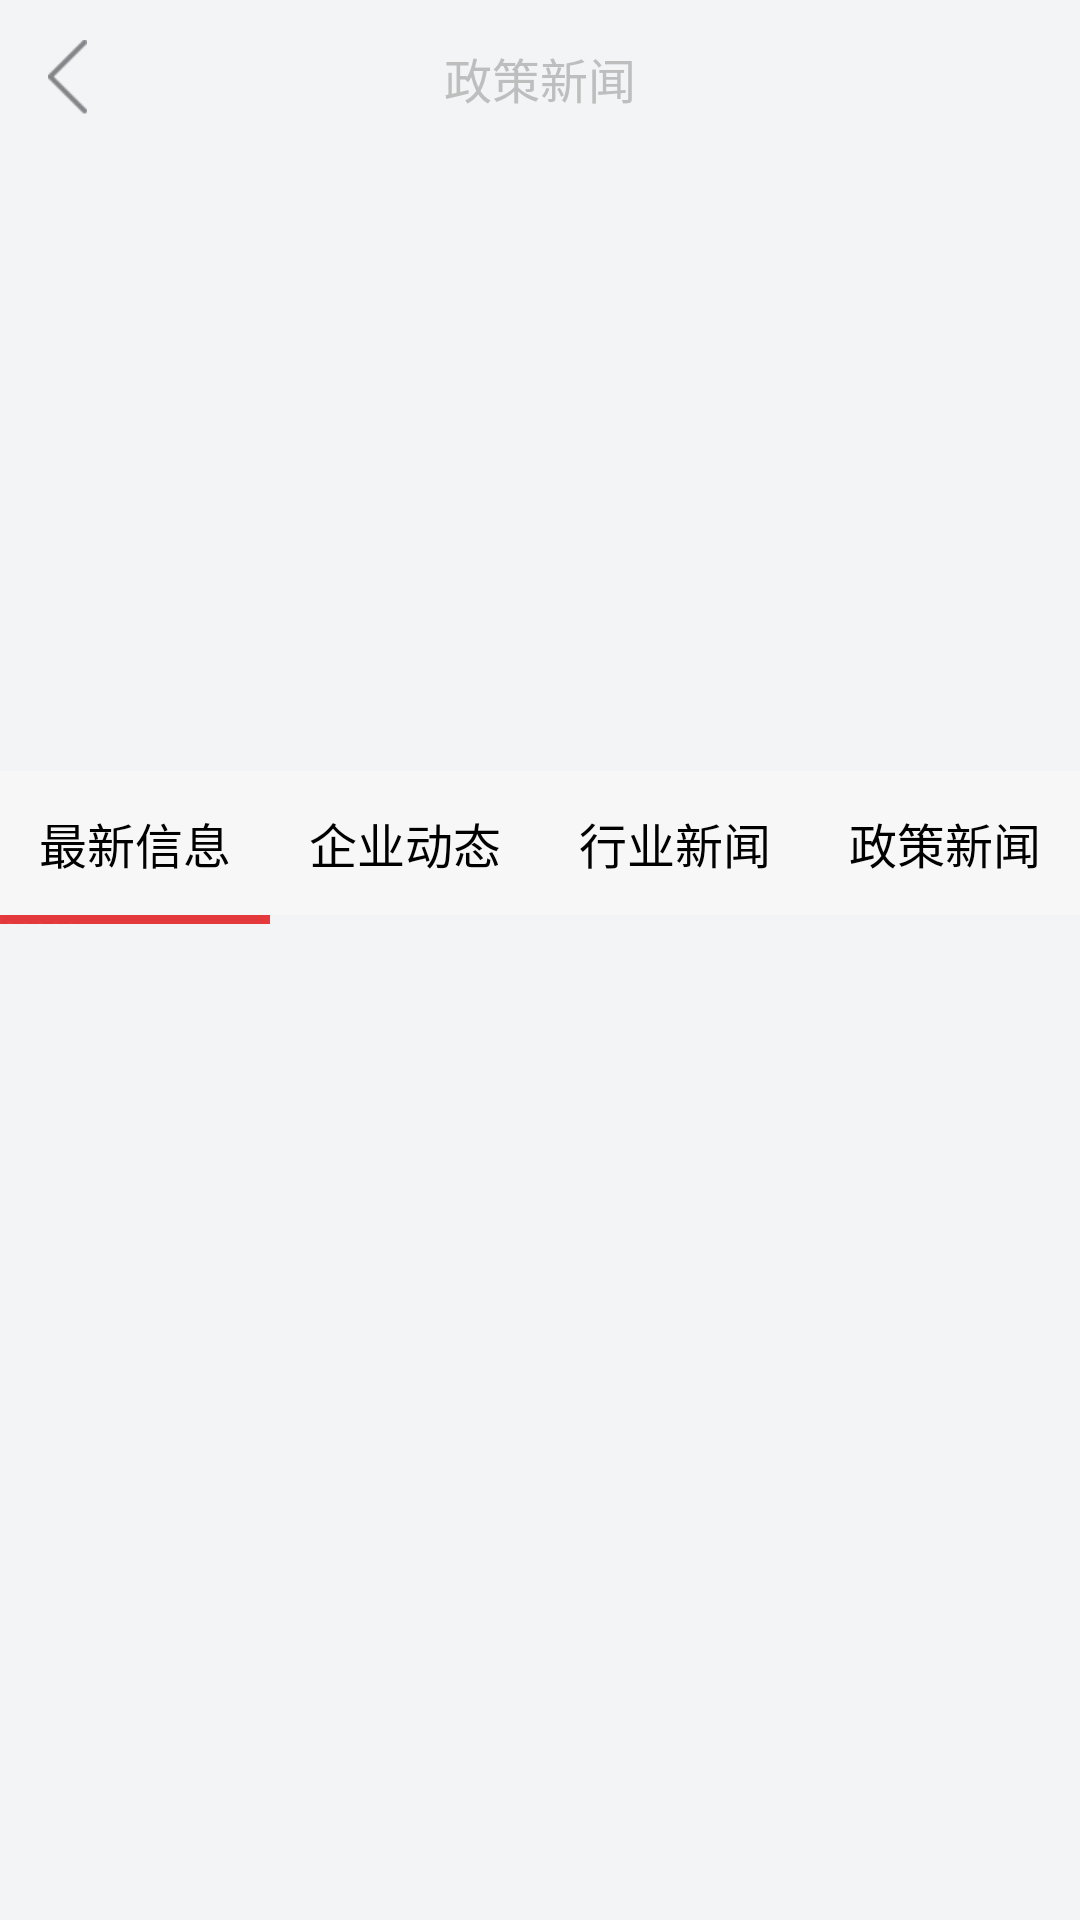

Icons on this 1080x1920 Android screen, each with the point to tap as [x,y]:
back: [67,77]
